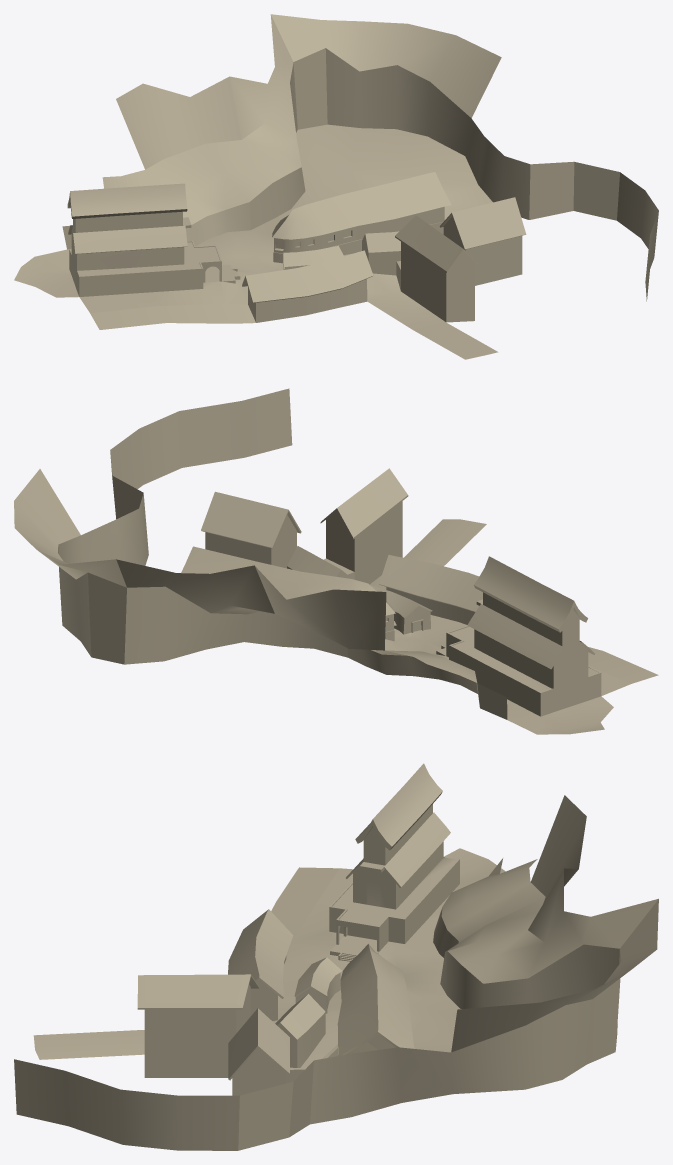
File: townTest.fbx
The picture shows the model from 3 angles, top to bottom: view 1: azimuth 30°, elevation 25°; view 2: azimuth 150°, elevation 25°; view 3: azimuth 270°, elevation 25°; orthographic projection. The views are drawn at different scales.
Visible parts, largest first — view 1: Plane, Plane.001; view 2: Plane, Plane.001; view 3: Plane, Plane.001.
Boxes of the visible parts, bbox=[...] form: Plane: bbox=[62, 14, 658, 322]; Plane.001: bbox=[14, 124, 498, 359]; Plane: bbox=[14, 388, 601, 719]; Plane.001: bbox=[370, 519, 658, 734]; Plane: bbox=[14, 763, 658, 1150]; Plane.001: bbox=[33, 848, 505, 1067].
Size of the model in its own units: 156 by 43.42 by 138.
